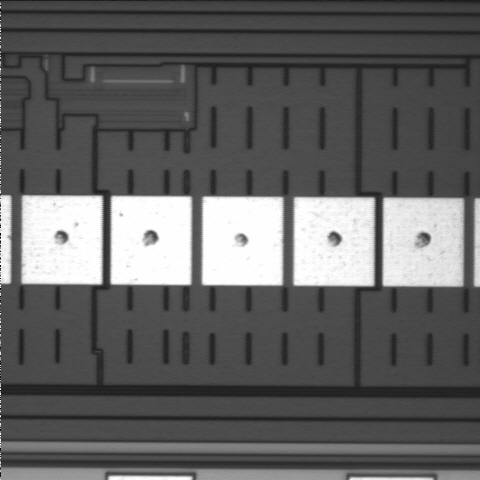pad: (111, 196, 192, 285), (293, 197, 374, 286), (202, 197, 283, 285), (22, 195, 102, 284), (383, 198, 463, 286)
